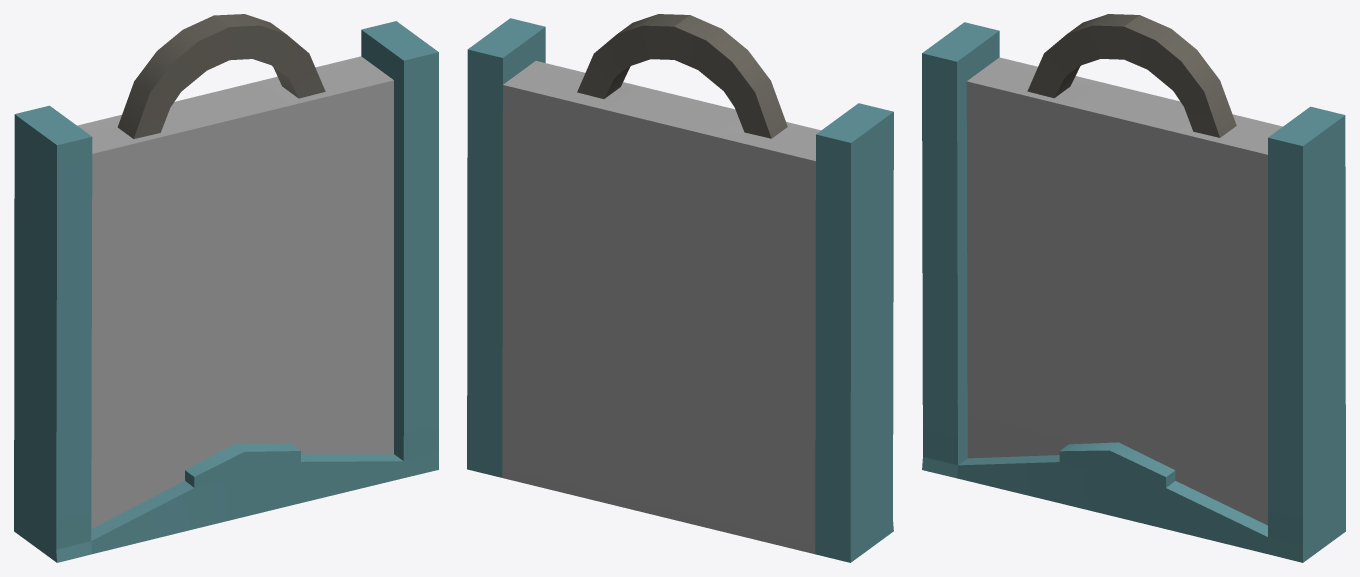
The model's file is WaterGate_No2.fbx.
The picture shows the model from 3 angles, left to right: view 1: azimuth 30°, elevation 25°; view 2: azimuth 150°, elevation 25°; view 3: azimuth 330°, elevation 25°; orthographic projection.
Visible parts, largest first — view 1: pCube5; view 2: pCube5; view 3: pCube5.
Boxes of the visible parts, x1,y1,x2,y2 form: pCube5: (14,14,438,562); pCube5: (467,14,893,562); pCube5: (922,14,1345,562).
Size of the model in its own units: 18.45 by 22.13 by 3.61.
